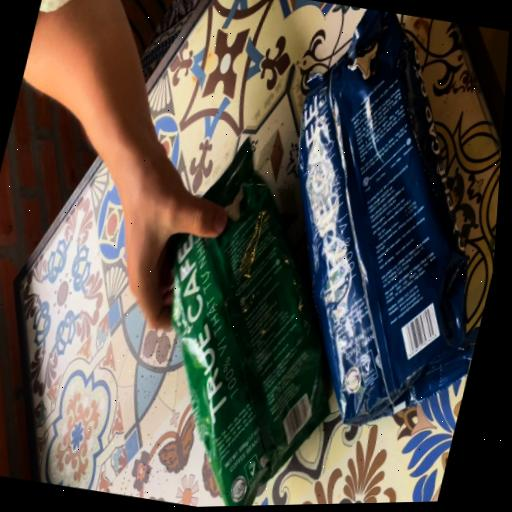cafe_hat: (298, 8, 471, 424)
cafe_xay: (171, 141, 328, 506)
